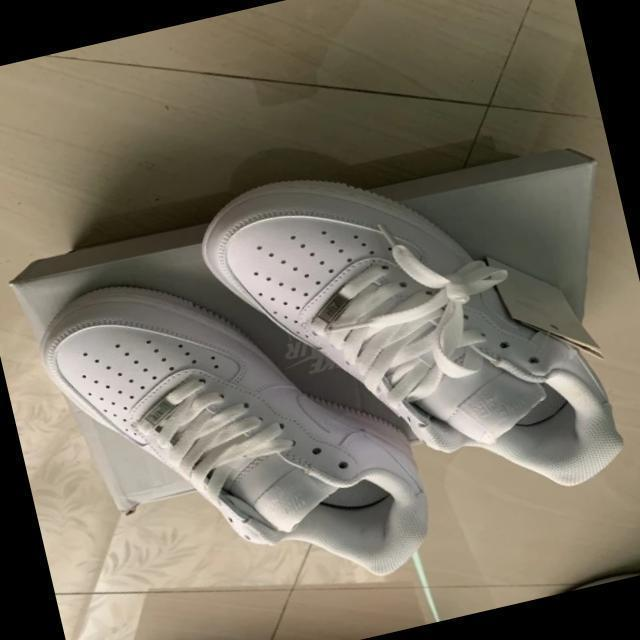nike original air force: (162, 107, 640, 564), (14, 222, 439, 638)
